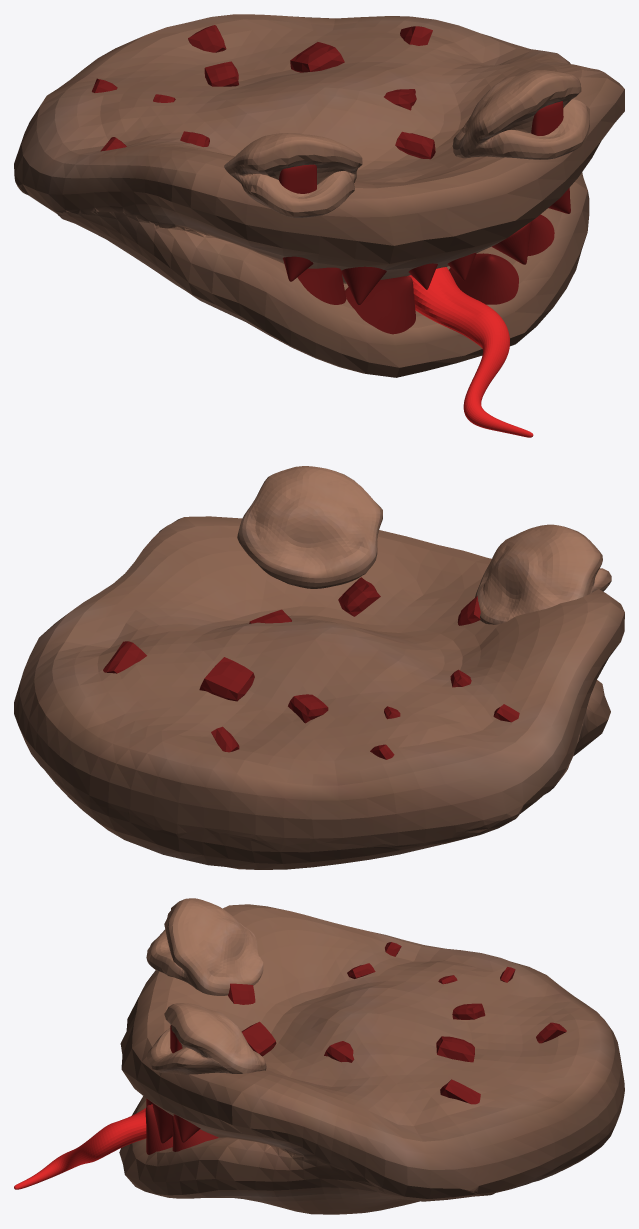
The model's file is evil_cookie.glb.
3 views of the same model, one above another, from view 1: azimuth 30°, elevation 25°; view 2: azimuth 150°, elevation 25°; view 3: azimuth 270°, elevation 25° (orthographic). The views are drawn at different scales.
Visible parts, largest first — view 1: Cylinder 1, Cylinder (×2), Tube, Cone 1 (×2), Box 1 (×3), Box (×3), Cone (×2), Cone 2 (×2); view 2: Cylinder 1, Cylinder (×2), Box 1 (×3), Box; view 3: Cylinder 1, Cylinder (×2), Box 1 (×5), Tube, Cone 1, Box, Cone, Cone 2.
Part boxes in pixels (x1,y1,x2,y2): Cylinder 1: [14, 14, 624, 377]; Cylinder (×2): [224, 70, 589, 217]; Tube: [407, 267, 533, 437]; Cone 1 (×2): [345, 253, 518, 334]; Box 1 (×3): [204, 42, 435, 159]; Box (×3): [188, 25, 563, 193]; Cone (×2): [297, 214, 554, 304]; Cone 2 (×2): [341, 221, 531, 304]; Cylinder 1: [14, 516, 624, 869]; Cylinder (×2): [237, 466, 611, 624]; Box 1 (×3): [199, 577, 380, 723]; Box: [103, 641, 146, 673]; Cylinder 1: [119, 904, 624, 1214]; Cylinder (×2): [146, 898, 266, 1074]; Box 1 (×5): [228, 983, 485, 1062]; Tube: [14, 1104, 152, 1189]; Cone 1: [145, 1105, 172, 1154]; Box: [440, 1079, 480, 1104]; Cone: [172, 1116, 218, 1151]; Cone 2: [152, 1102, 172, 1143].
Size of the model in its own units: 0.9411 by 0.4572 by 1.11.
